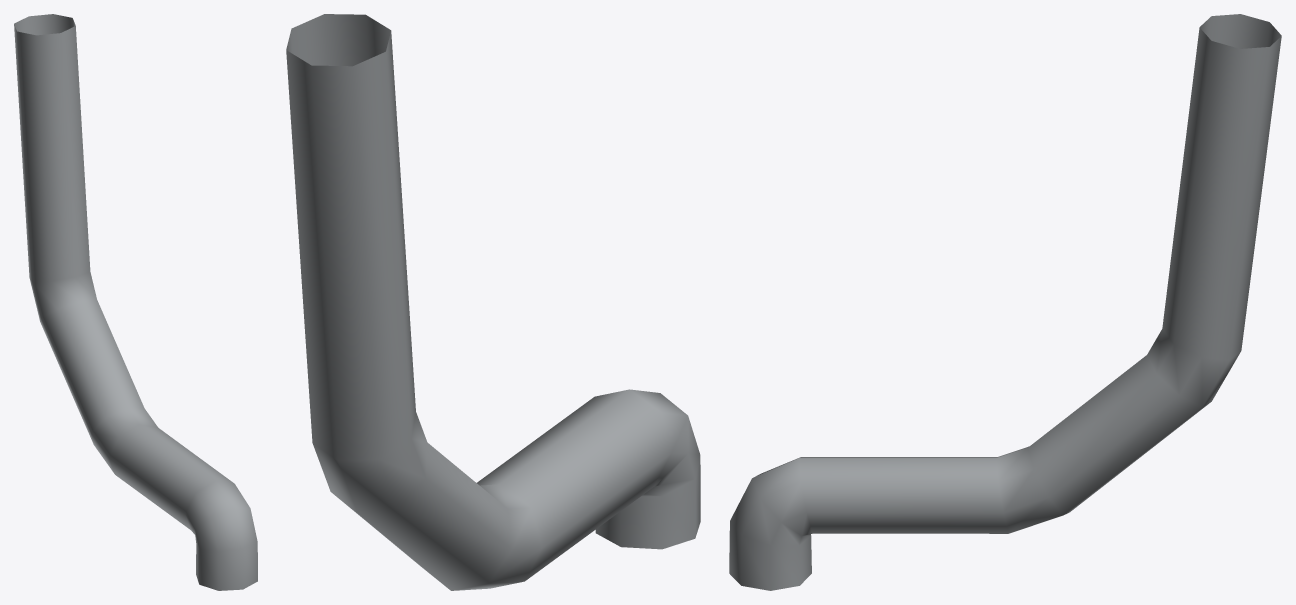
The model's file is Armchair_015.fbx.
3 views of the same model, side by side, from view 1: azimuth 30°, elevation 25°; view 2: azimuth 150°, elevation 25°; view 3: azimuth 270°, elevation 25° (orthographic). The views are drawn at different scales.
Parts seen in each view (by area): view 1: Armchair_015; view 2: Armchair_015; view 3: Armchair_015.
Boxes of the visible parts, x1,y1,x2,y2 form: Armchair_015: (14, 14, 257, 590); Armchair_015: (286, 14, 700, 590); Armchair_015: (729, 14, 1281, 590).
Bounding box in the file's own units: 6.8 × 45.38 × 49.49.
